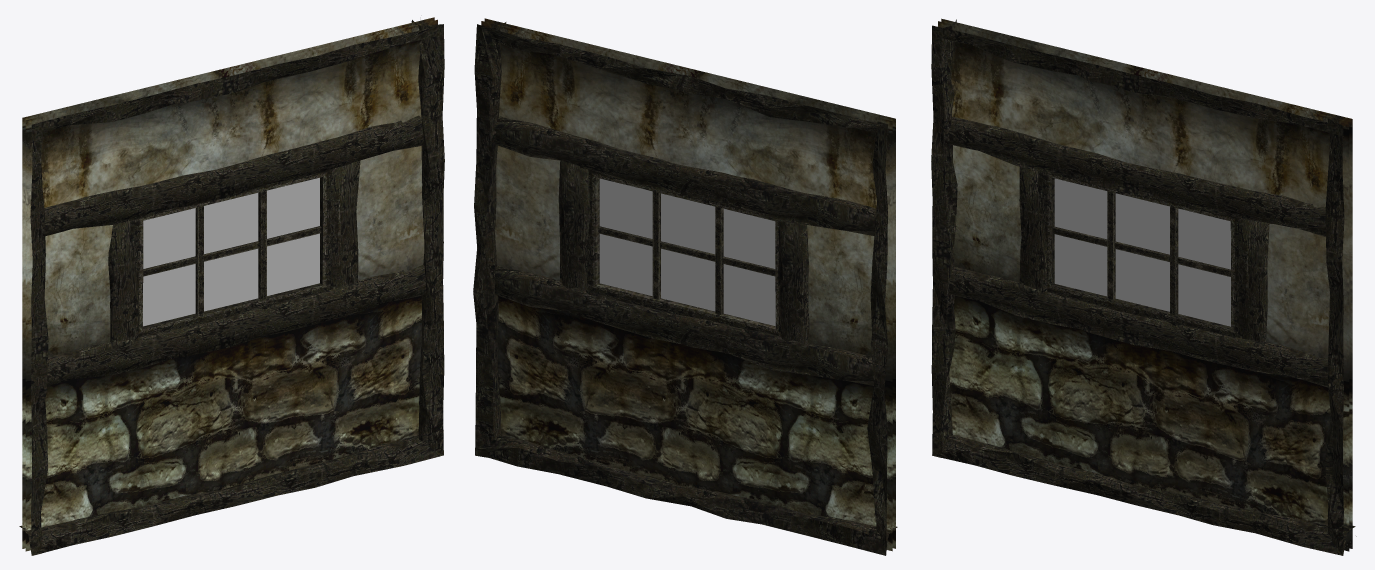
File: window02_blue.DAE
3 renders of one model, left to right at view 1: azimuth 30°, elevation 25°; view 2: azimuth 150°, elevation 25°; view 3: azimuth 330°, elevation 25°, orthographic.
Visible parts, largest first — view 1: Box009, Box012, Plane011, Box011; view 2: Box009, Box012, Plane011, Box011; view 3: Box009, Box012, Plane011, Box011.
Part boxes in pixels (<box>): Box009: <box>22,17,437,551</box>; Box012: <box>19,20,444,555</box>; Plane011: <box>143,177,319,326</box>; Box011: <box>130,169,340,336</box>; Box009: <box>481,18,895,551</box>; Box012: <box>473,22,897,555</box>; Plane011: <box>599,178,775,326</box>; Box011: <box>580,166,778,335</box>; Box009: <box>938,18,1352,551</box>; Box012: <box>931,19,1356,555</box>; Plane011: <box>1054,178,1230,326</box>; Box011: <box>1038,171,1248,337</box>.
Size of the model in its own units: 4 by 0.3278 by 4.
